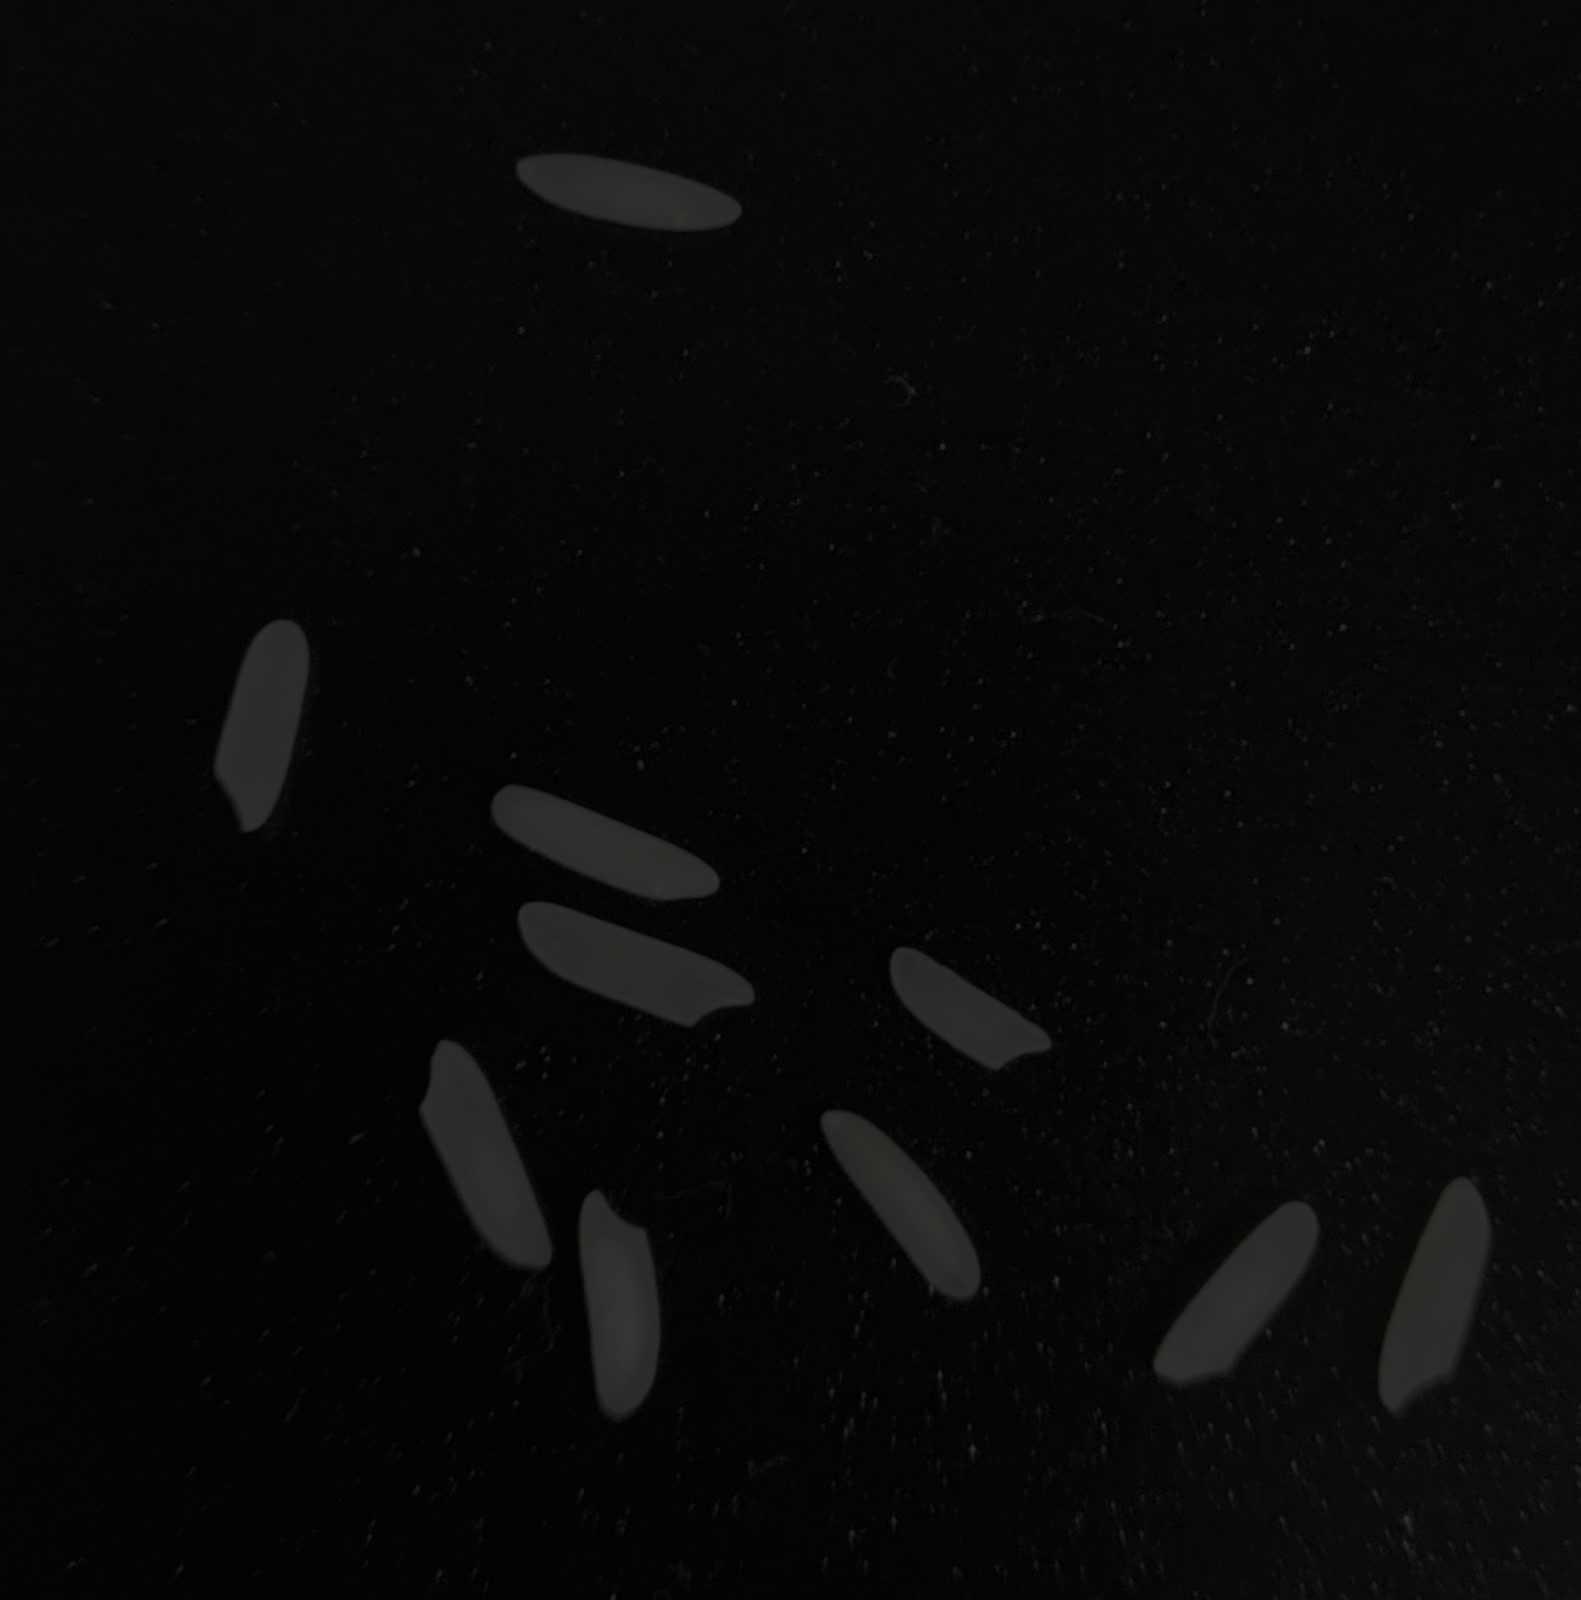complete_grain: (1139, 1174, 1323, 1407), (405, 1022, 565, 1281), (814, 1096, 994, 1315), (1371, 1162, 1506, 1433), (482, 774, 745, 909), (888, 934, 1065, 1090), (512, 140, 755, 251), (573, 1183, 674, 1430), (211, 600, 309, 851)
